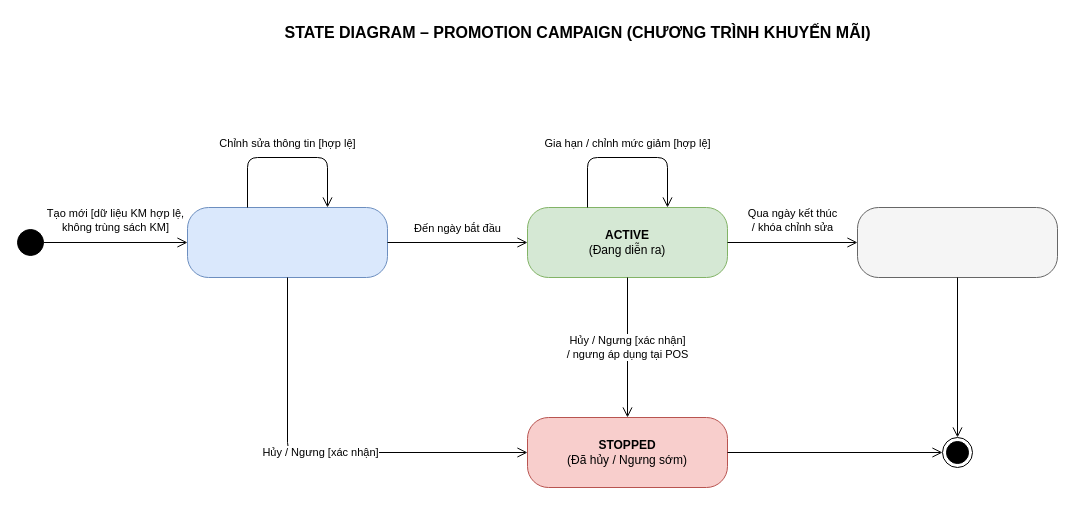
Some shapes in this 1075 by 505 pixel diagram are drawn without their labels. The shapes that lost their labels are listed below. From the top down, each one's centre as x and y in pixels, then its label:
the point at 287,242: UPCOMING (Sắp diễn ra)
the point at 957,242: ENDED (Đã kết thúc)
